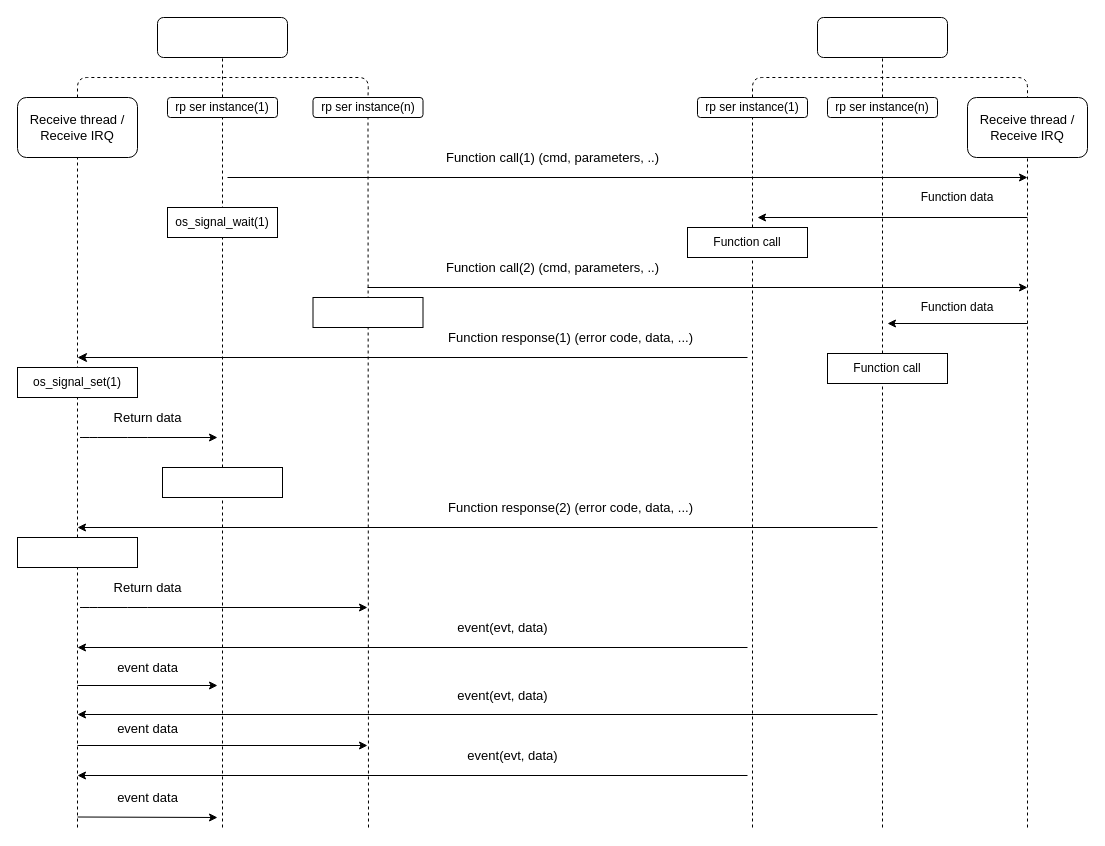
The diagram is 1105 pixels wide and 846 high, and some of its shapes have lost their labels. Each missing label, with the centre of its shape:
"Application core" belongs at (222,37).
"os_signal_set(n)" belongs at (77,552).
"os_signal_wait(n)" belongs at (367,312).
"Remote core" belongs at (882,37).
"Response parse" belongs at (222,482).
